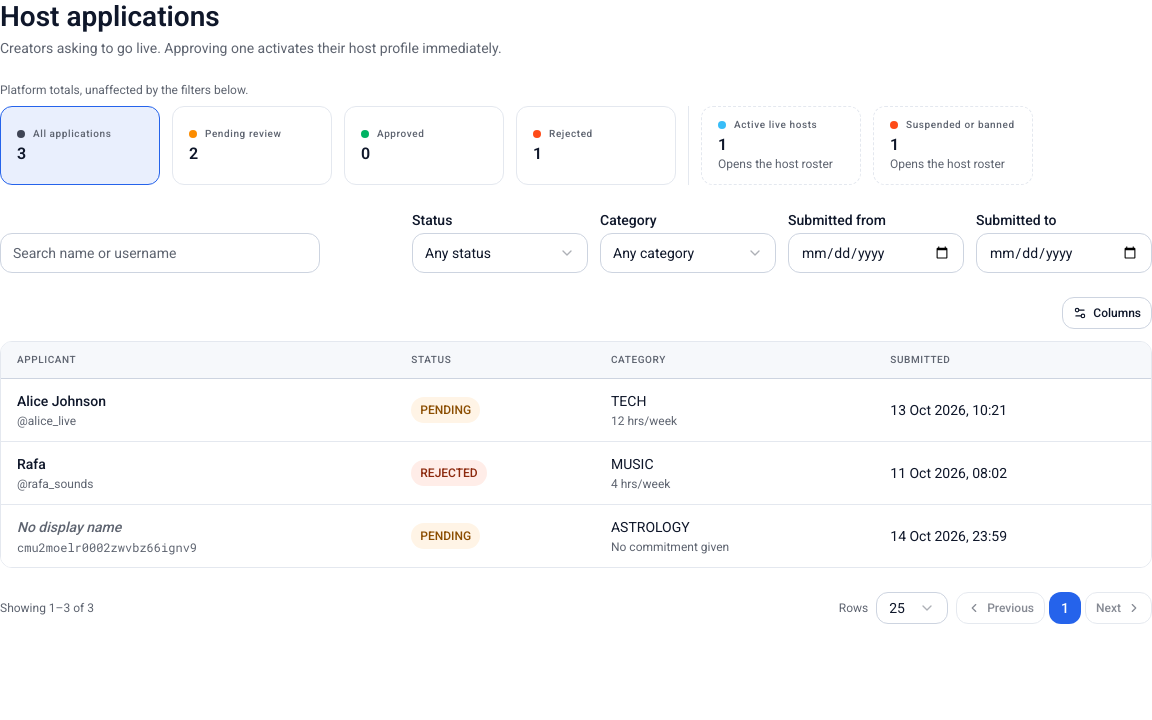
Test case: intro media is defused before the browser fetches it › fetches nothing until the operator asks to see it
Click the text "Alice Johnson": click(62, 401) [17,393,106,409]
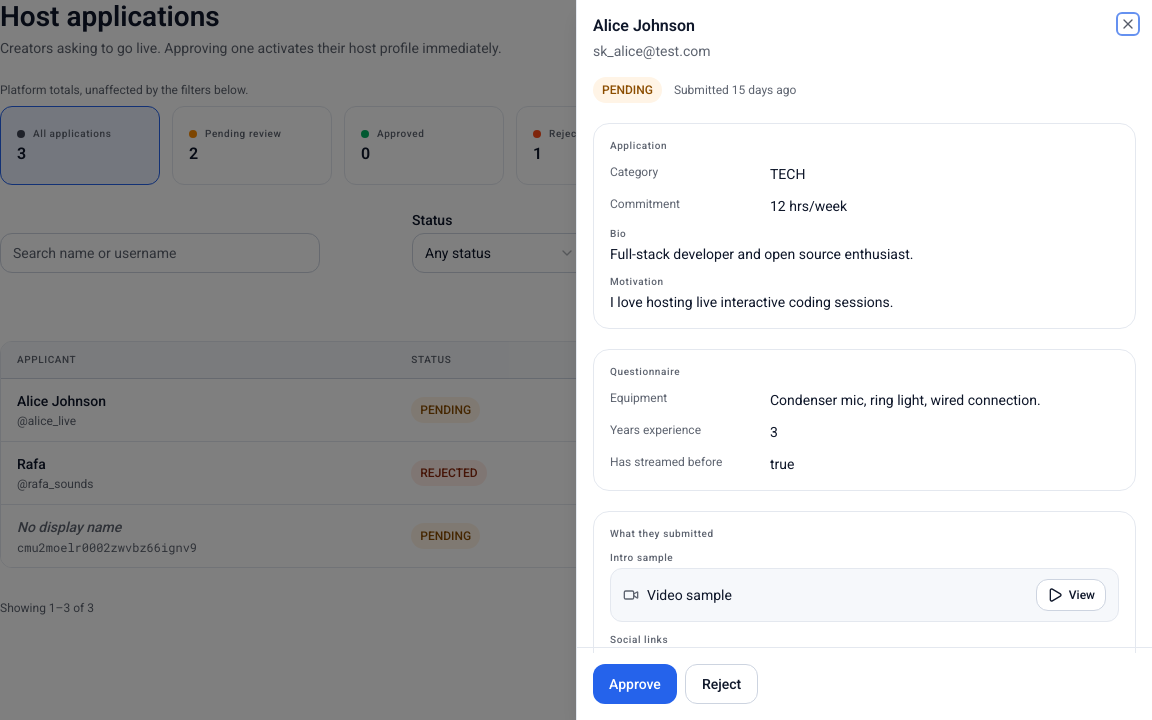
Expected: the heading "Application" is shown, [610,140,667,151]
Expected: the button with aria-label "play video" is shown, [1036,579,1106,611]
